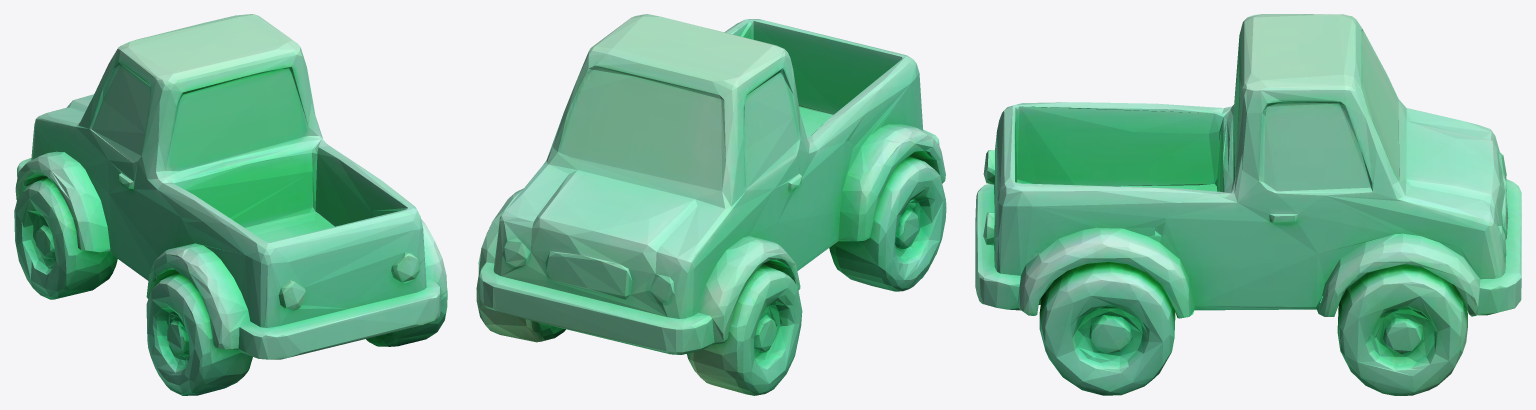
Rendered from car-pickup.glb.
The picture shows the model from 3 angles, left to right: view 1: azimuth 30°, elevation 25°; view 2: azimuth 150°, elevation 25°; view 3: azimuth 270°, elevation 25°; orthographic projection. The views are drawn at different scales.
Visible parts, largest first — view 1: geometry_0; view 2: geometry_0; view 3: geometry_0.
Part boxes in pixels (bbox=[...]): geometry_0: bbox=[14, 14, 447, 395]; geometry_0: bbox=[476, 14, 946, 395]; geometry_0: bbox=[975, 14, 1521, 395].
Size of the model in its own units: 0.5903 by 0.575 by 0.9976.
Materials: 1 (1 with a texture image).
